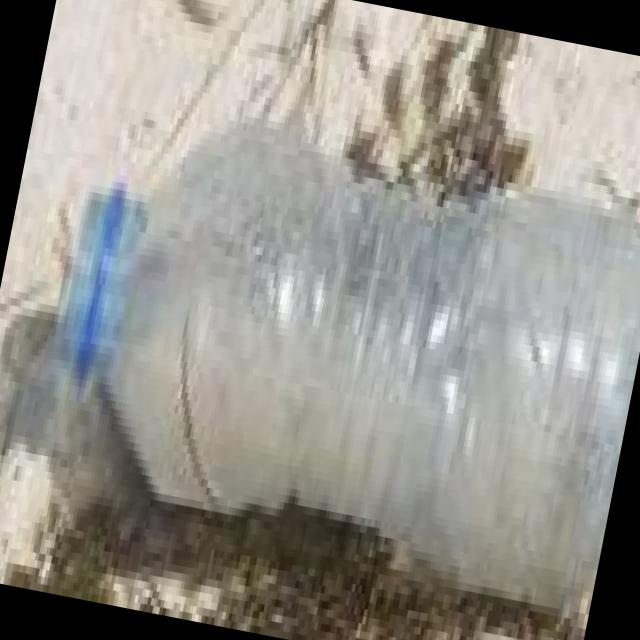general: (17, 80, 640, 622)
